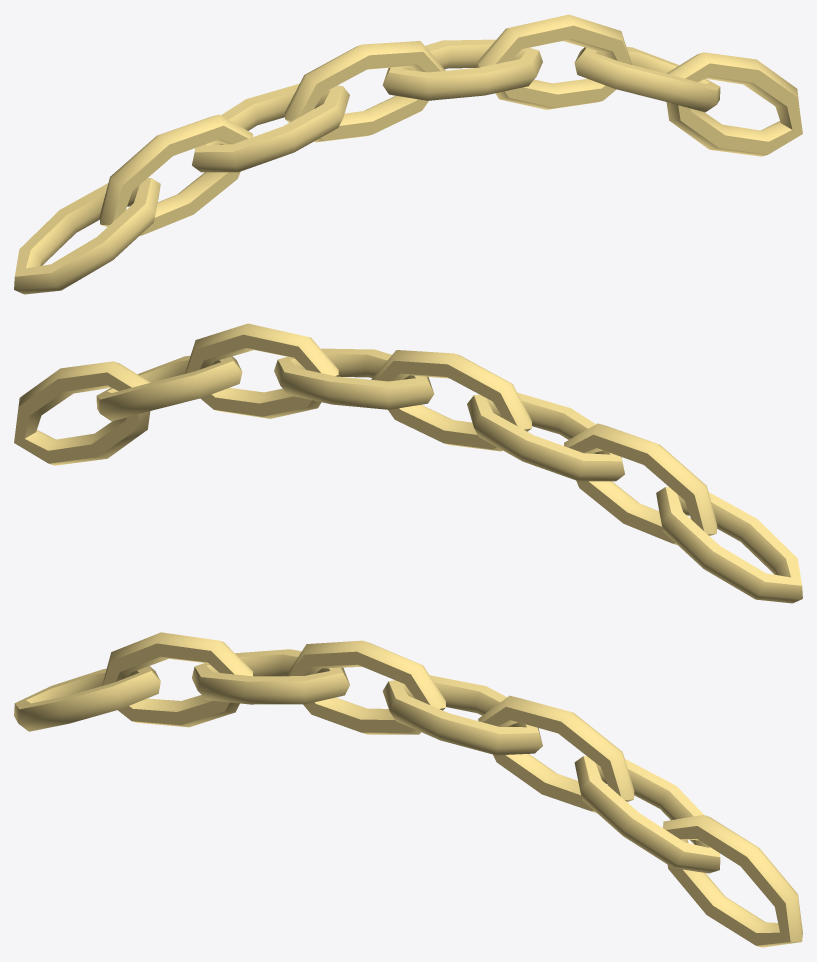
The model's file is chain.fbx.
3 views of the same model, one above another, from view 1: azimuth 30°, elevation 25°; view 2: azimuth 150°, elevation 25°; view 3: azimuth 330°, elevation 25° (orthographic).
Visible parts, largest first — view 1: chain; view 2: chain; view 3: chain.
Part boxes in pixels (x1,y1,x2,y2): chain: (14, 14, 802, 294); chain: (14, 323, 802, 603); chain: (14, 632, 802, 947).
Size of the model in its own units: 0.1624 by 0.0183 by 0.0413.
